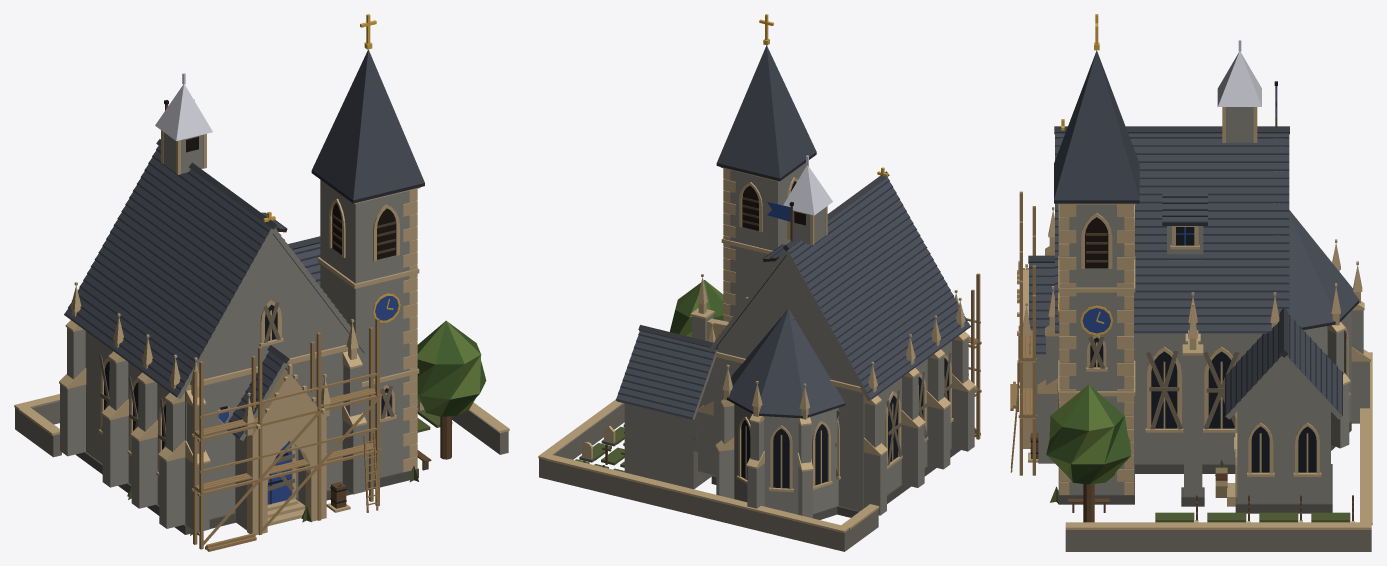
The model's file is prediger.glb.
3 views of the same model, side by side, from view 1: azimuth 30°, elevation 25°; view 2: azimuth 150°, elevation 25°; view 3: azimuth 270°, elevation 25° (orthographic). The views are drawn at different scales.
Parts seen in each view (by area): view 1: Haus, Stufe3, Geruest, Laubkrone_Stufe1, Stufe1, Leerstand, Stufe2; view 2: Haus, Stufe2, Stufe1, Stufe3, Laubkrone_Stufe1, Geruest, Leerstand; view 3: Haus, Stufe2, Stufe1, Stufe3, Laubkrone_Stufe1, Geruest, Leerstand.
Boxes of the visible parts, x1,y1,x2,y2 form: Haus: [59, 14, 424, 534]; Stufe3: [70, 73, 358, 535]; Geruest: [191, 318, 381, 551]; Laubkrone_Stufe1: [417, 320, 486, 416]; Stufe1: [14, 394, 509, 470]; Leerstand: [99, 302, 418, 535]; Stufe2: [261, 212, 320, 286]; Haus: [697, 14, 975, 517]; Stufe2: [616, 244, 845, 519]; Stufe1: [538, 399, 879, 551]; Stufe3: [690, 155, 965, 419]; Laubkrone_Stufe1: [670, 280, 723, 337]; Geruest: [966, 273, 981, 439]; Leerstand: [780, 315, 952, 476]; Haus: [1028, 14, 1289, 504]; Stufe2: [1162, 193, 1370, 513]; Stufe1: [1065, 352, 1372, 551]; Stufe3: [1017, 40, 1362, 506]; Laubkrone_Stufe1: [1046, 385, 1131, 484]; Geruest: [1010, 191, 1036, 475]; Leerstand: [1050, 336, 1239, 503].
Size of the model in its own units: 16 by 20.1 by 13.92.
